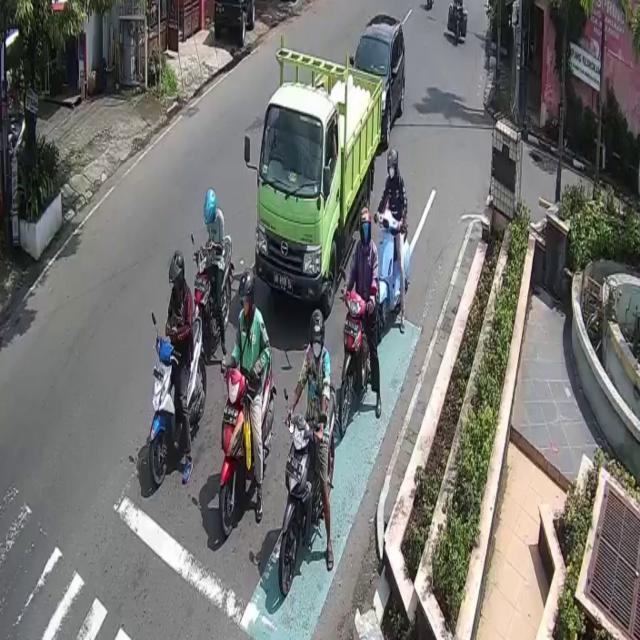bus: (279, 383, 339, 596), (148, 313, 208, 488), (221, 349, 276, 537), (339, 294, 380, 434), (190, 234, 233, 344), (376, 210, 409, 334)
motorcycle: (351, 14, 406, 142)
truck: (256, 45, 384, 313)
